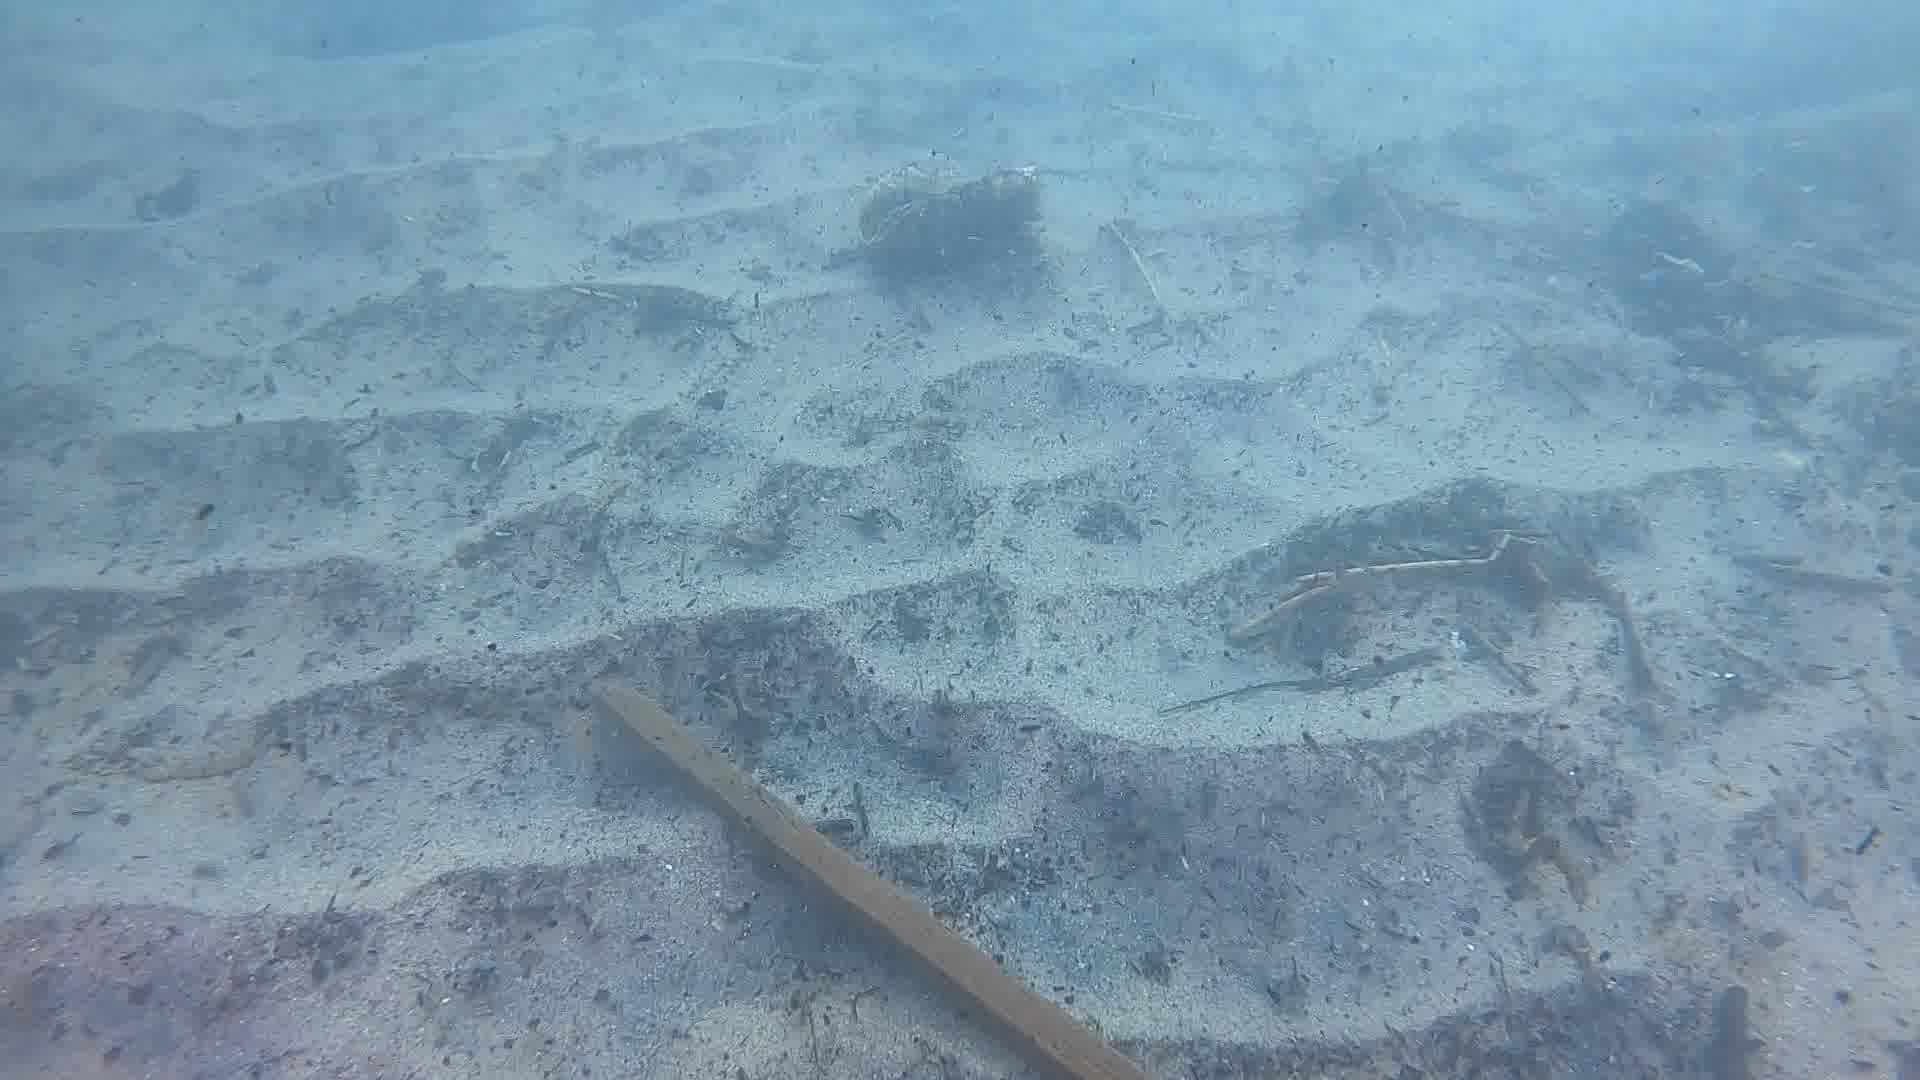wood: (588, 676, 1146, 1080)
